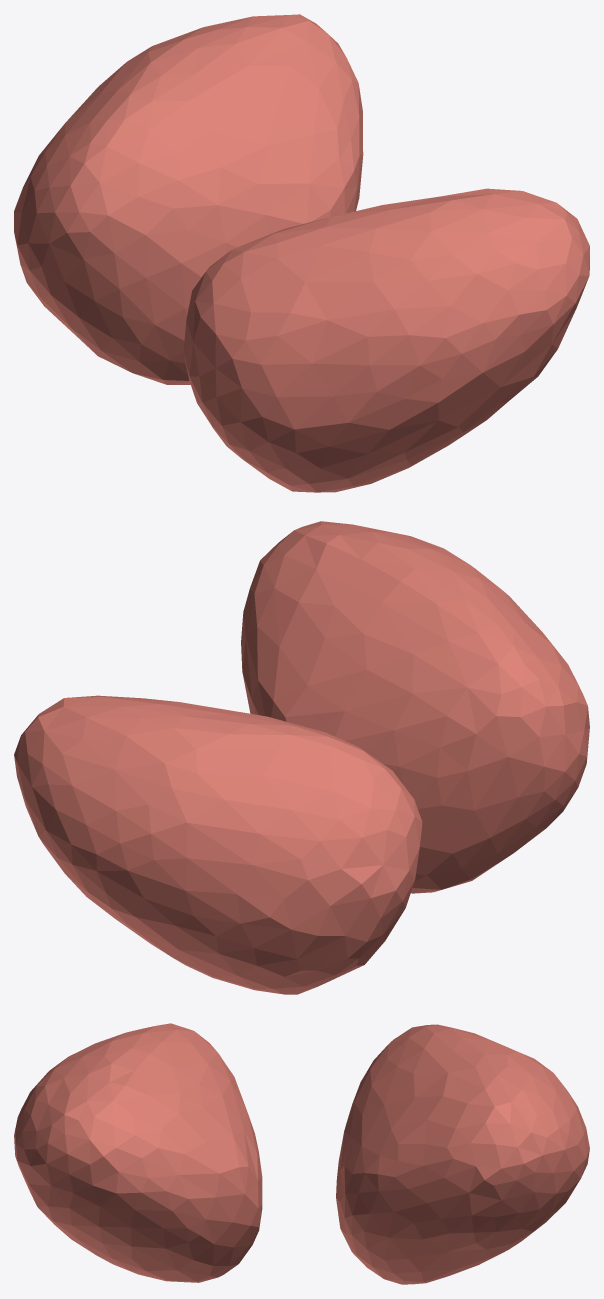
3 renders of one model, top to bottom at view 1: azimuth 30°, elevation 25°; view 2: azimuth 150°, elevation 25°; view 3: azimuth 270°, elevation 25°, orthographic. The views are drawn at different scales.
Parts seen in each view (by area): view 1: 693.obj; view 2: 693.obj; view 3: 693.obj.
Part boxes in pixels (box(x1,y1,x2,y2)): 693.obj: box(14, 14, 589, 492); 693.obj: box(14, 521, 589, 994); 693.obj: box(14, 1023, 589, 1284).
Size of the model in its own units: 960 by 757 by 1618.
